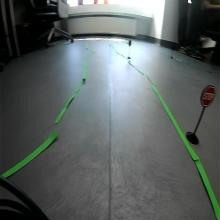stop: (200, 85, 218, 108)
